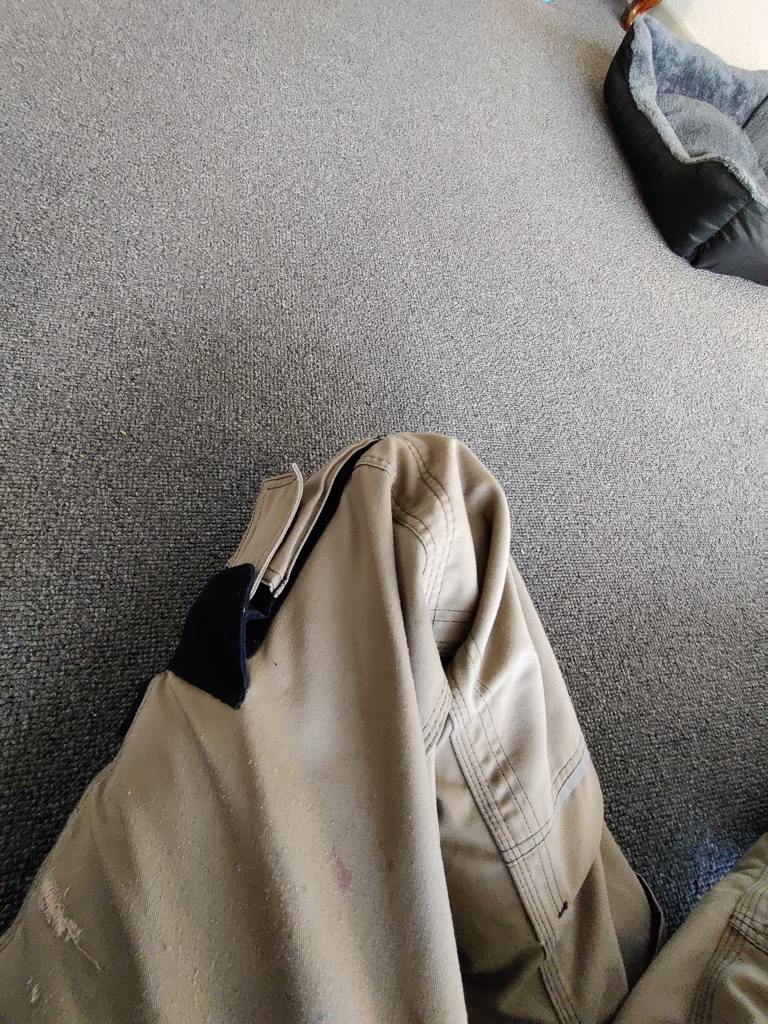Humanoid: (0, 403, 768, 1024)
